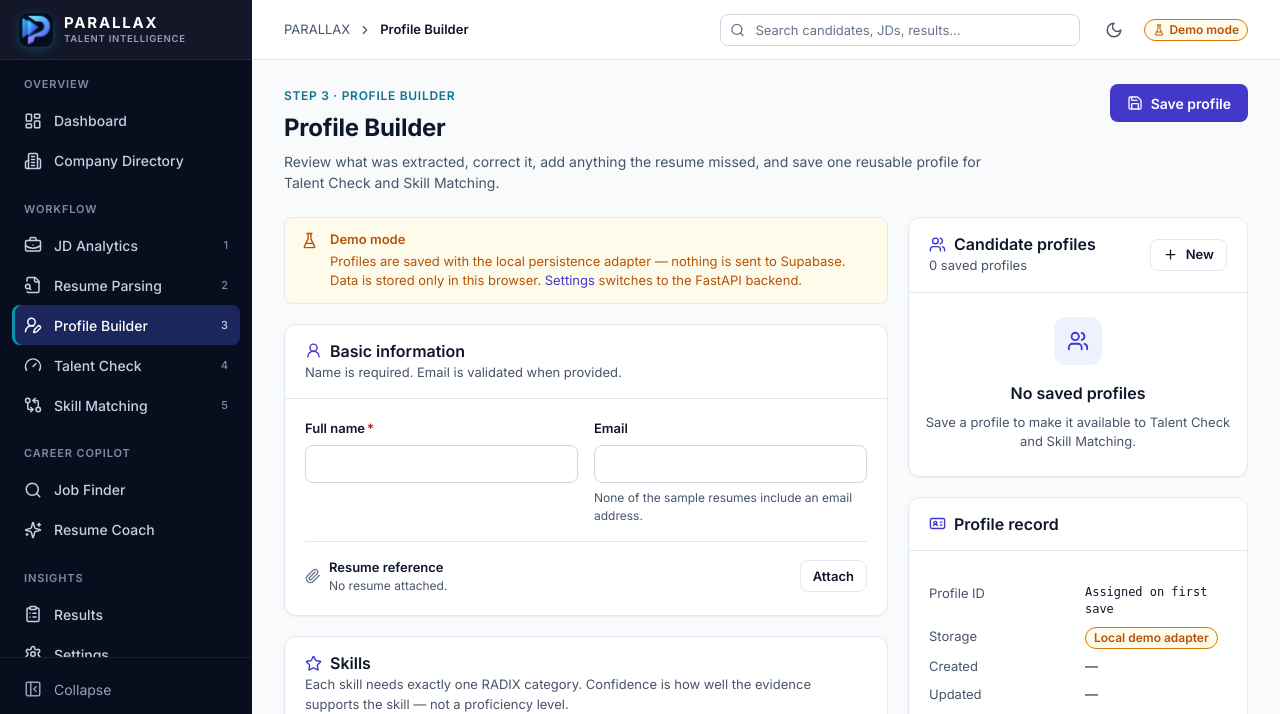
Test: profile builder › blocks saving without a name and shows the validation error
Expected: the field labelled "Full name*" is shown, top-left (305, 444), bottom-right (578, 482)
Click the button "Save profile" at (1179, 103), box top-left (1110, 84), bottom-right (1248, 122)
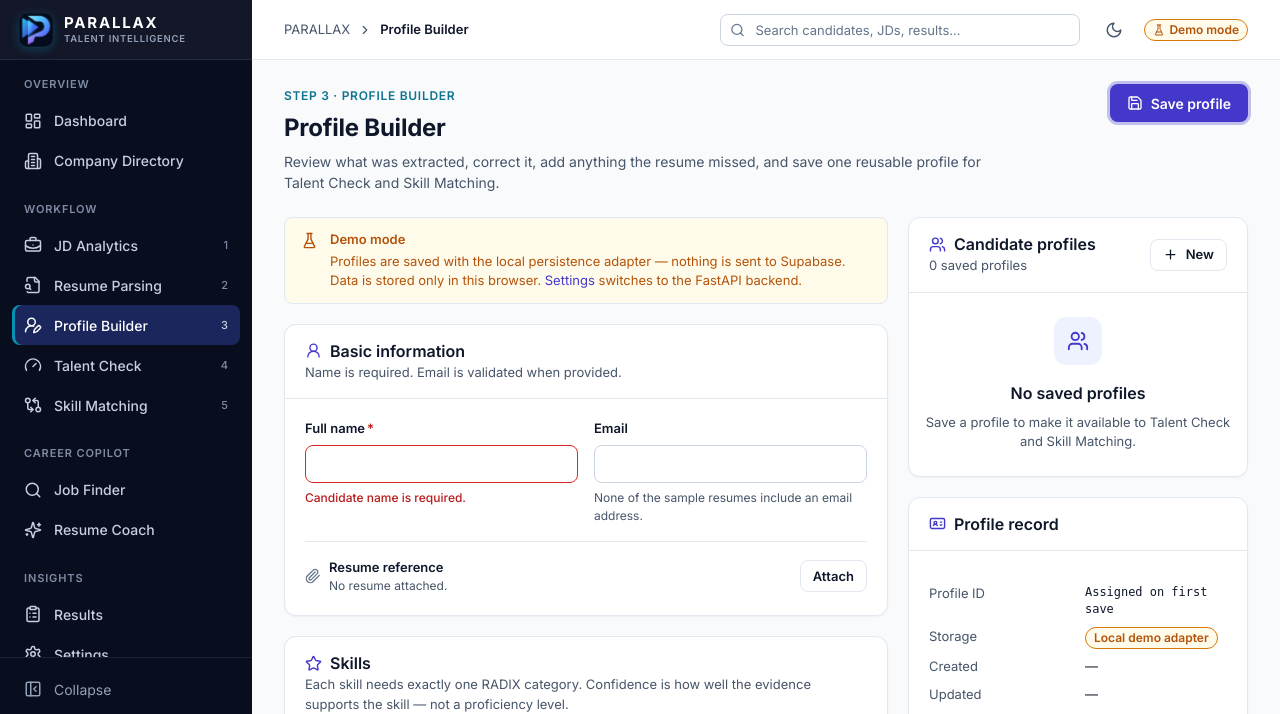
Expected: the text "Candidate name is required." is shown, top-left (305, 490), bottom-right (466, 504)
